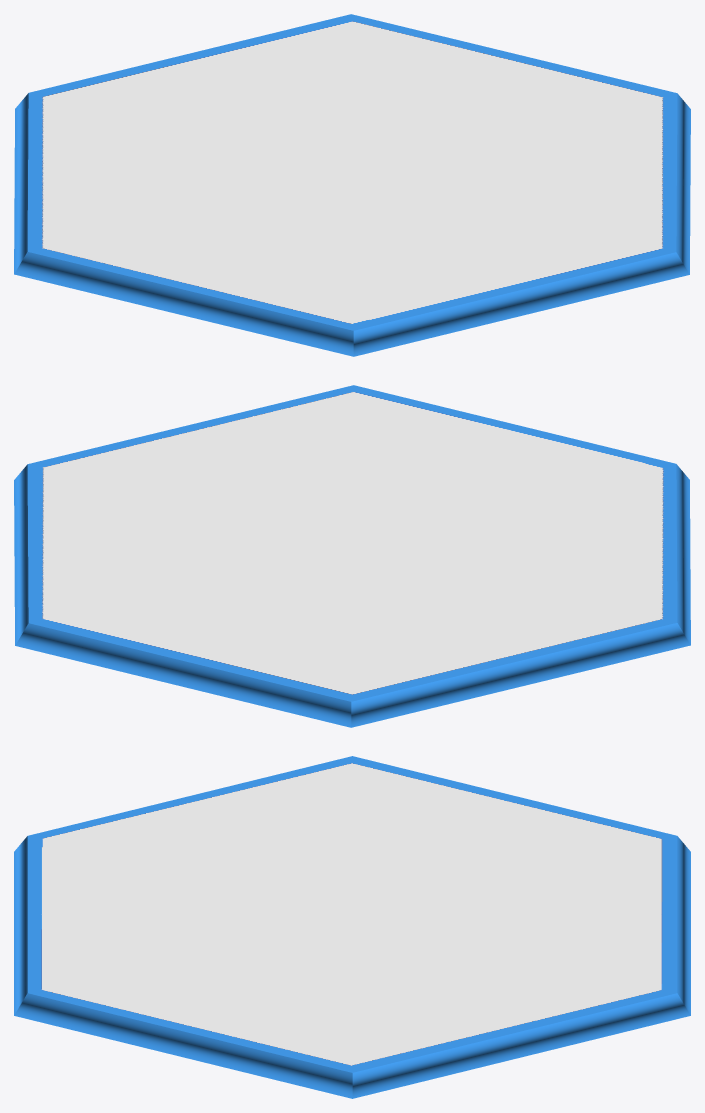
Rendered from Hex Tile.fbx.
3 renders of one model, top to bottom at view 1: azimuth 30°, elevation 25°; view 2: azimuth 150°, elevation 25°; view 3: azimuth 270°, elevation 25°, orthographic.
Parts seen in each view (by area): view 1: Hex_tile; view 2: Hex_tile; view 3: Hex_tile.
Part boxes in pixels (x1=…): Hex_tile: x1=14, y1=14, x2=690, y2=356; Hex_tile: x1=14, y1=385, x2=690, y2=727; Hex_tile: x1=14, y1=756, x2=690, y2=1098.
Size of the model in its own units: 19.87 by 0.5435 by 17.22.
1 material, 1 textured.
